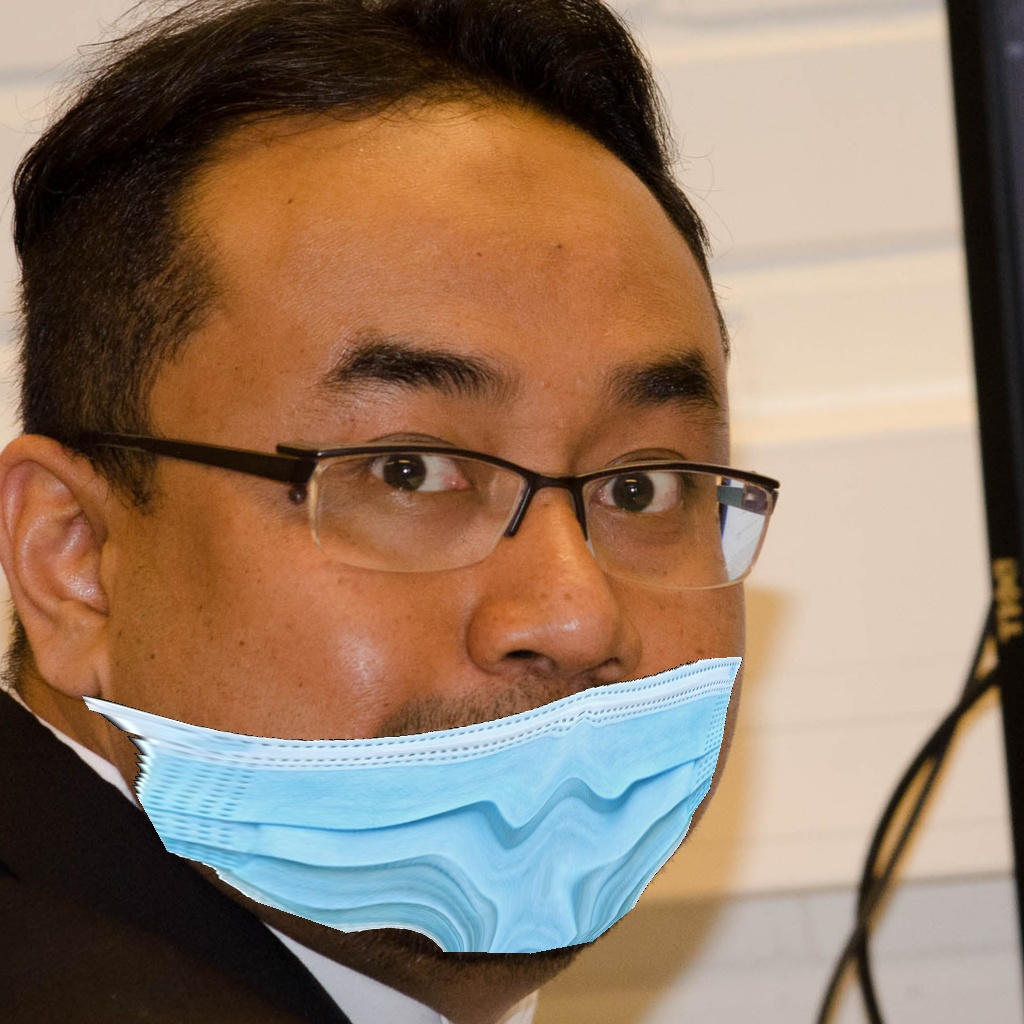mascarilla_mal_puesta: (37, 328, 799, 970)
